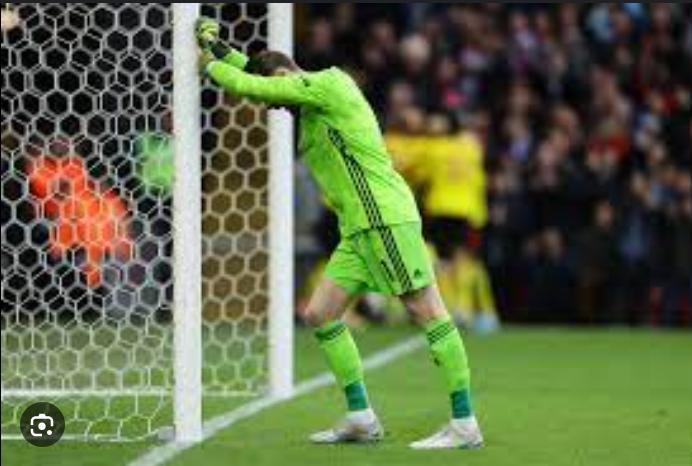goalkeeper: (191, 10, 498, 460)
